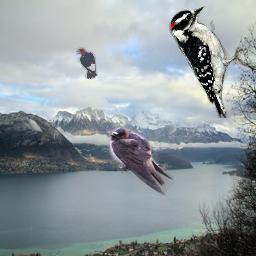Swallow: (108, 126, 174, 196)
Woodpecker: (169, 6, 250, 118), (76, 47, 98, 79)
